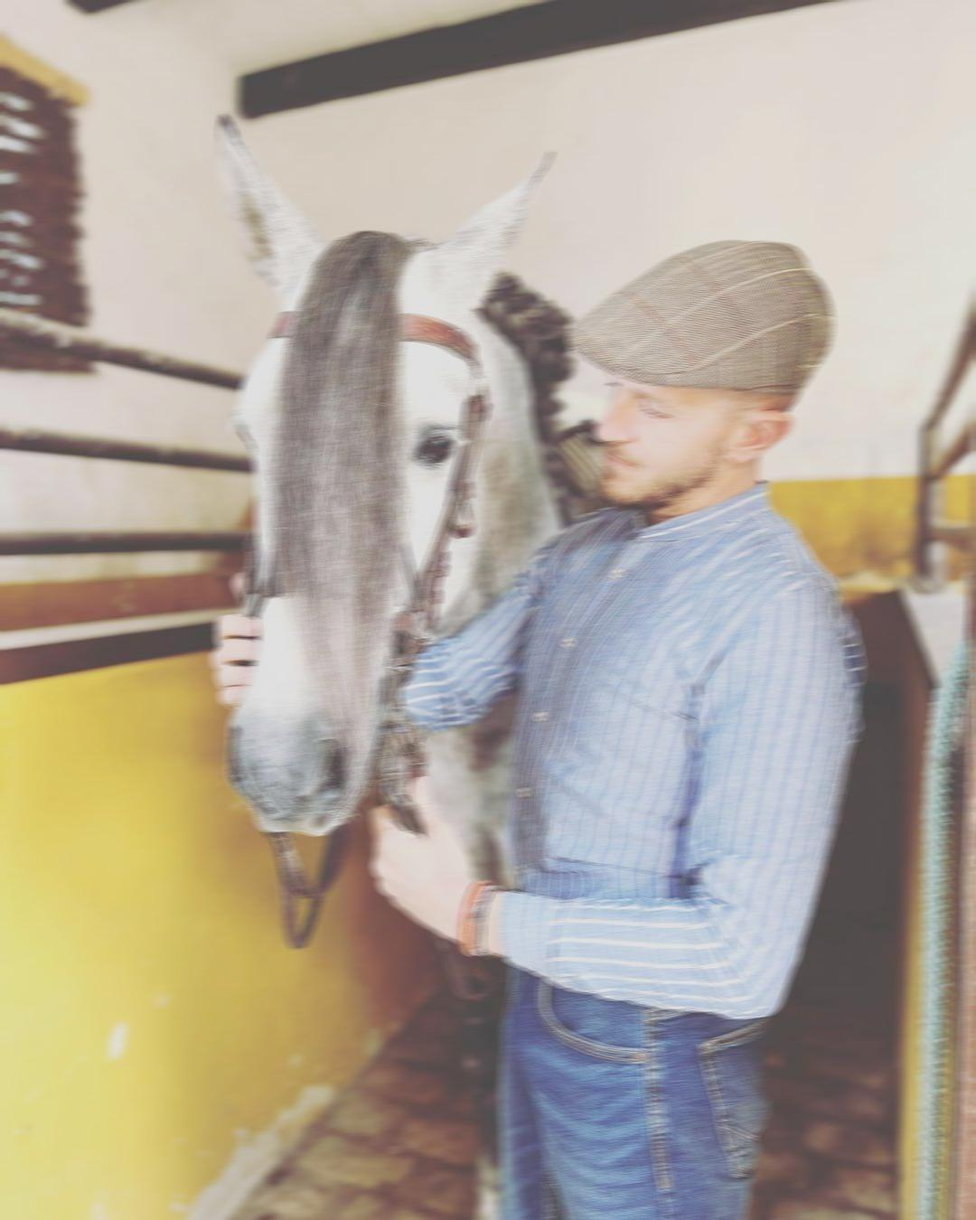horse: (211, 112, 605, 1216)
